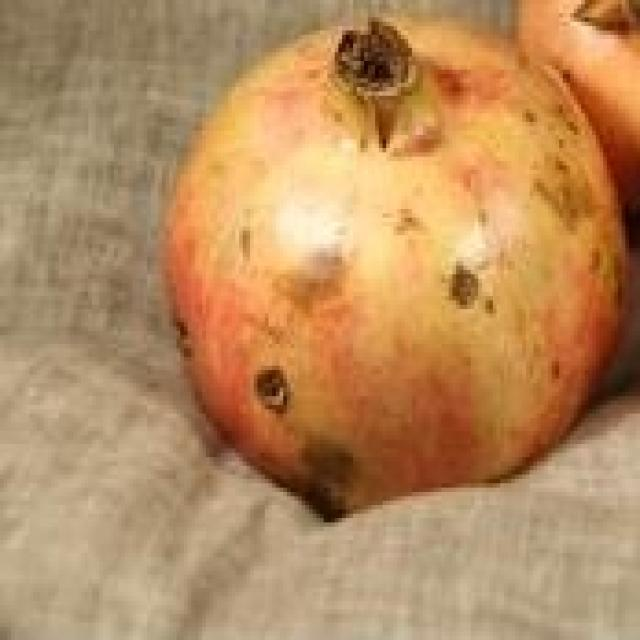overripe: (153, 7, 640, 519)
